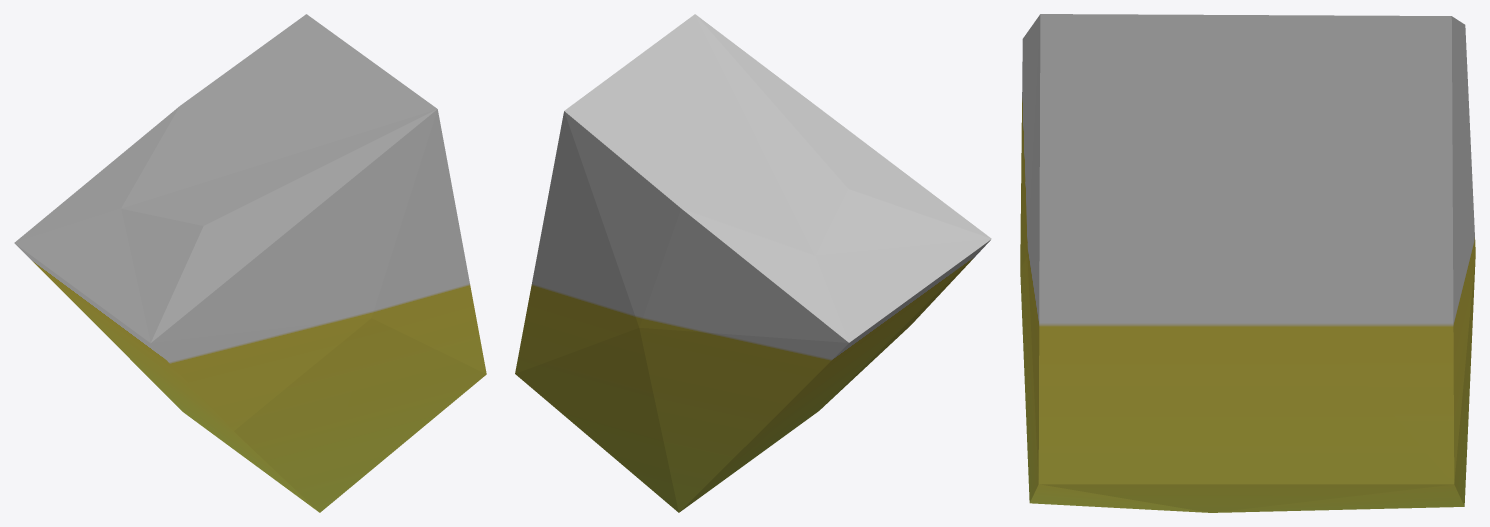
Rendered from Ruins_05.fbx.
The picture shows the model from 3 angles, left to right: view 1: azimuth 30°, elevation 25°; view 2: azimuth 150°, elevation 25°; view 3: azimuth 270°, elevation 25°; orthographic projection. The views are drawn at different scales.
Parts seen in each view (by area): view 1: Ruins_05; view 2: Ruins_05; view 3: Ruins_05.
Part boxes in pixels (<box>): Ruins_05: <box>14,14,486,512</box>; Ruins_05: <box>515,14,991,512</box>; Ruins_05: <box>1020,14,1475,512</box>.
Size of the model in its own units: 1.55 by 1.62 by 1.15.
